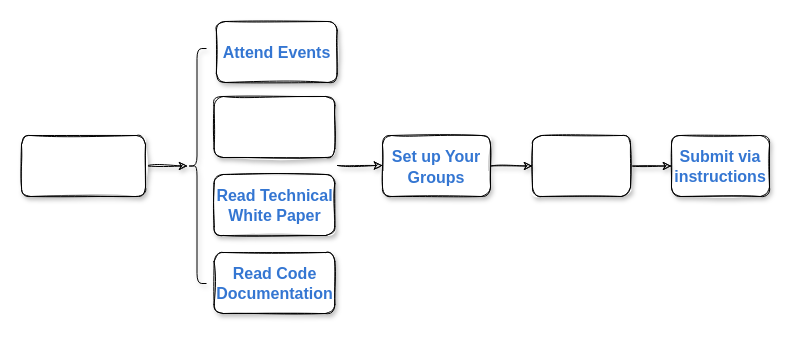
The diagram is 793 pixels wide and 338 high, and some of its shapes have lost their labels. Each missing label, with the centre of its shape:
Check Code and Tutorials: [275,128]
Register Your Team: [582,167]
Sign up: [84,167]
